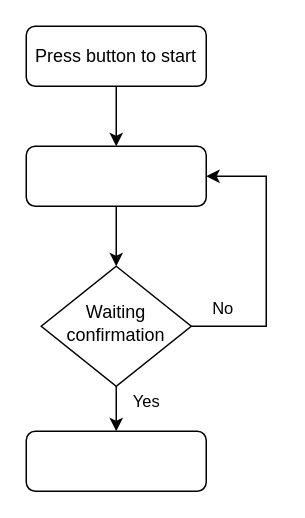
The diagram is 305 pixels wide and 518 high, and some of its shapes have lost their labels. The centre of each missing label's shape, as x and y in pixels:
"Choose solder type" goes at point 115,175.
"Start soldering process" goes at point 115,460.
